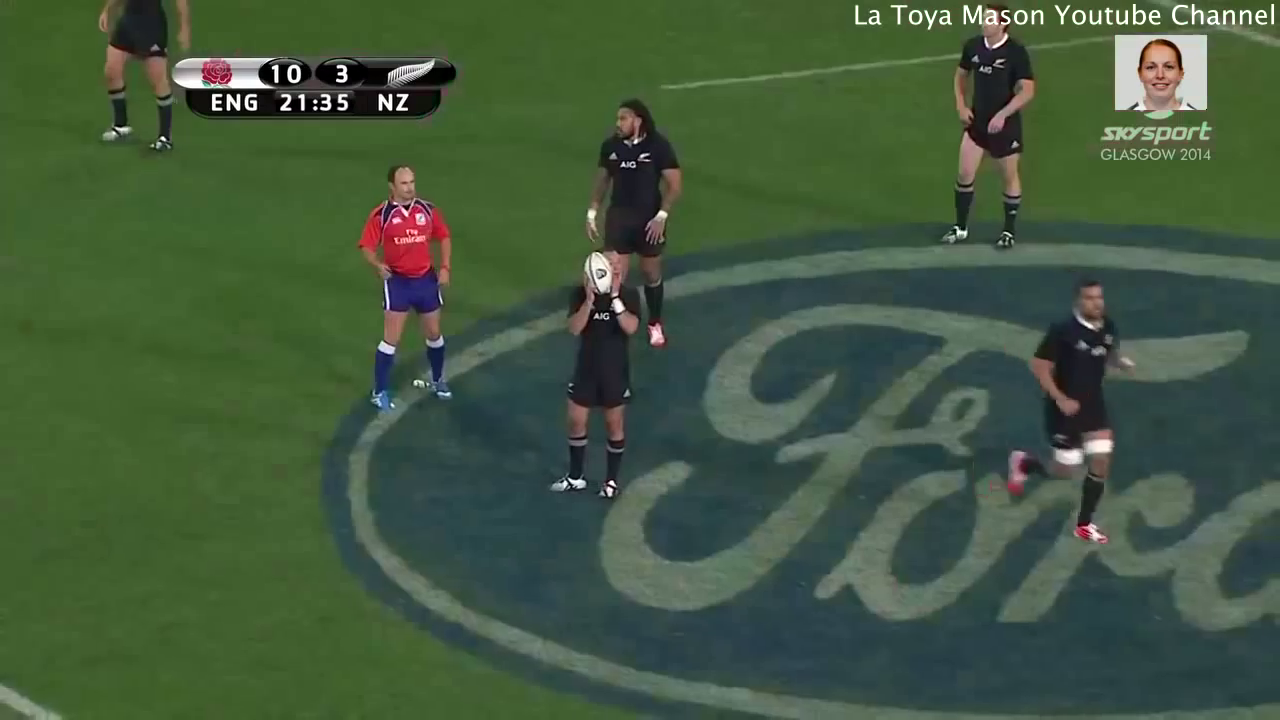ball: (570, 241, 629, 306)
player: (997, 275, 1153, 564), (575, 89, 692, 365), (354, 155, 474, 420), (932, 1, 1041, 257), (544, 234, 644, 512), (84, 1, 201, 161)
